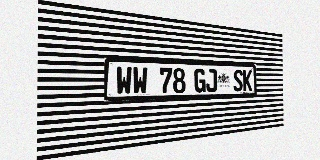7: (159, 67, 172, 94)
8: (173, 68, 185, 93)
G: (194, 68, 206, 93)
J: (206, 69, 217, 92)
K: (243, 70, 252, 91)
S: (233, 70, 243, 91)
W: (116, 66, 132, 95), (132, 67, 147, 94)
